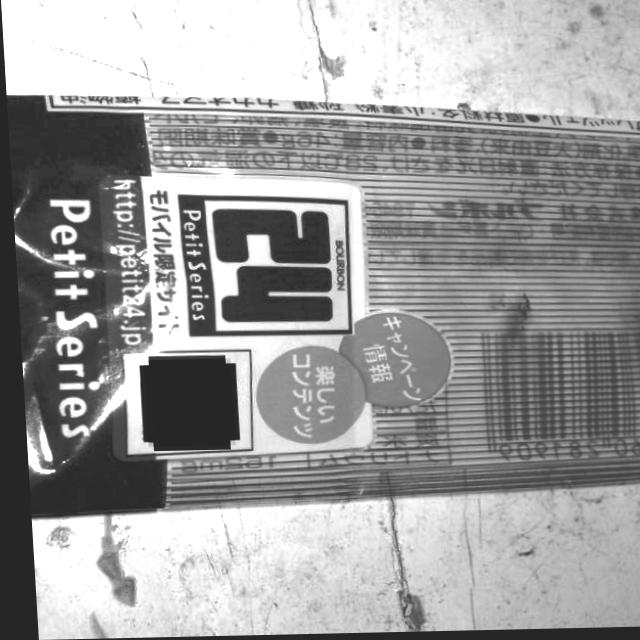qr_code: (138, 359, 229, 448)
